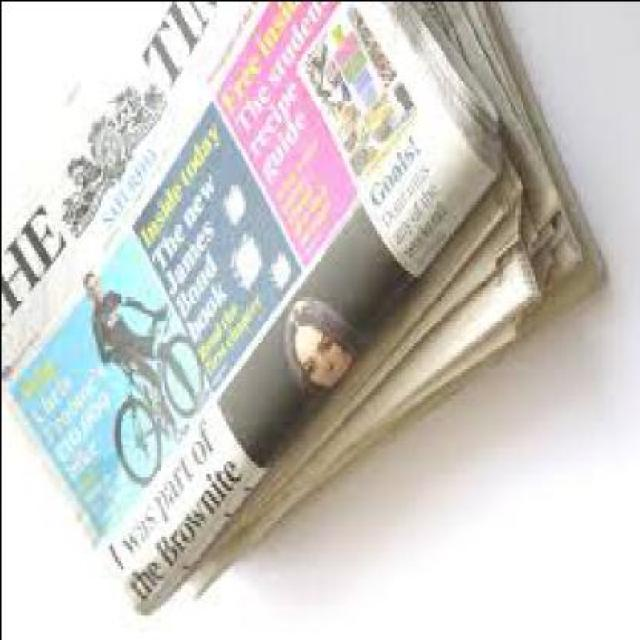PAPER: (1, 1, 602, 602), (1, 2, 497, 610), (188, 161, 598, 581)
